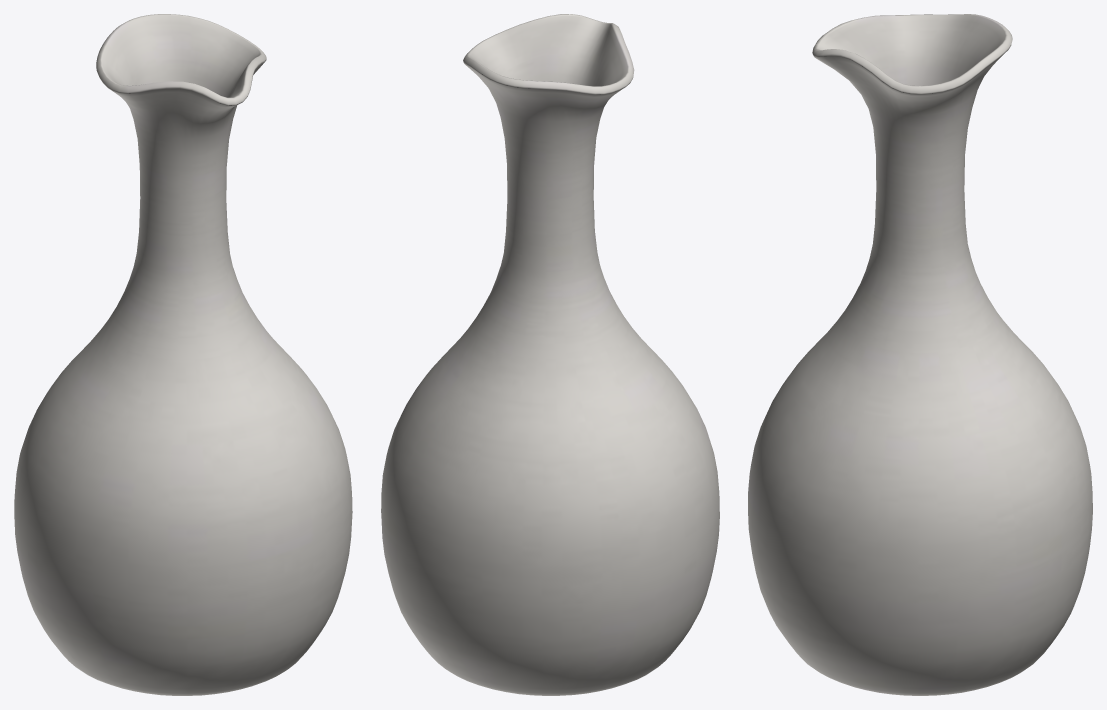
Rendered from ceramic_vase_01.glb.
3 views of the same model, side by side, from view 1: azimuth 30°, elevation 25°; view 2: azimuth 150°, elevation 25°; view 3: azimuth 270°, elevation 25° (orthographic).
Visible parts, largest first — view 1: ceramic_vase_01; view 2: ceramic_vase_01; view 3: ceramic_vase_01.
Part boxes in pixels (x1=…): ceramic_vase_01: x1=14, y1=14, x2=352, y2=695; ceramic_vase_01: x1=381, y1=14, x2=719, y2=695; ceramic_vase_01: x1=748, y1=14, x2=1092, y2=695.
Bounding box in the file's own units: 0.2036 × 0.4003 × 0.2036.
Materials: 1 (1 with a texture image).
